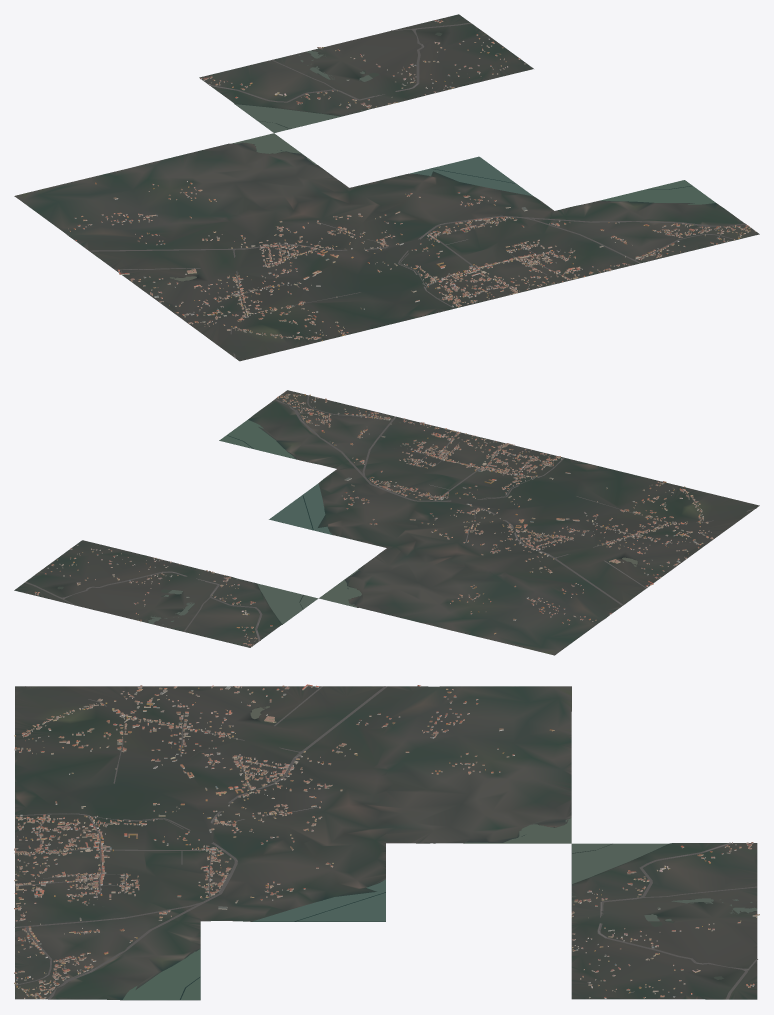
3 views of the same model, one above another, from view 1: azimuth 30°, elevation 25°; view 2: azimuth 150°, elevation 25°; view 3: azimuth 270°, elevation 25° (orthographic). The views are drawn at different scales.
Parts seen in each view (by area): view 1: ground, buildings, water, roads; view 2: ground, buildings, water, roads; view 3: ground, buildings, water, roads.
Part boxes in pixels (x1,y1,x2,y2): ground: (14, 14, 759, 361); buildings: (68, 20, 755, 341); water: (170, 32, 715, 281); roads: (89, 22, 746, 358); ground: (14, 390, 759, 655); buildings: (34, 392, 713, 646); water: (57, 420, 637, 624); roads: (25, 395, 756, 640); ground: (15, 686, 757, 1000); buildings: (14, 684, 759, 999); water: (28, 706, 757, 999); roads: (15, 686, 757, 999).
Size of the model in its own units: 5618 by 30.61 by 5635.
